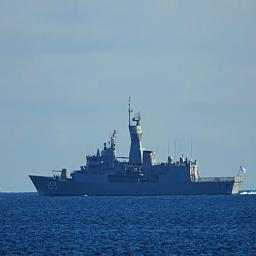Fragata: (30, 94, 244, 199)
